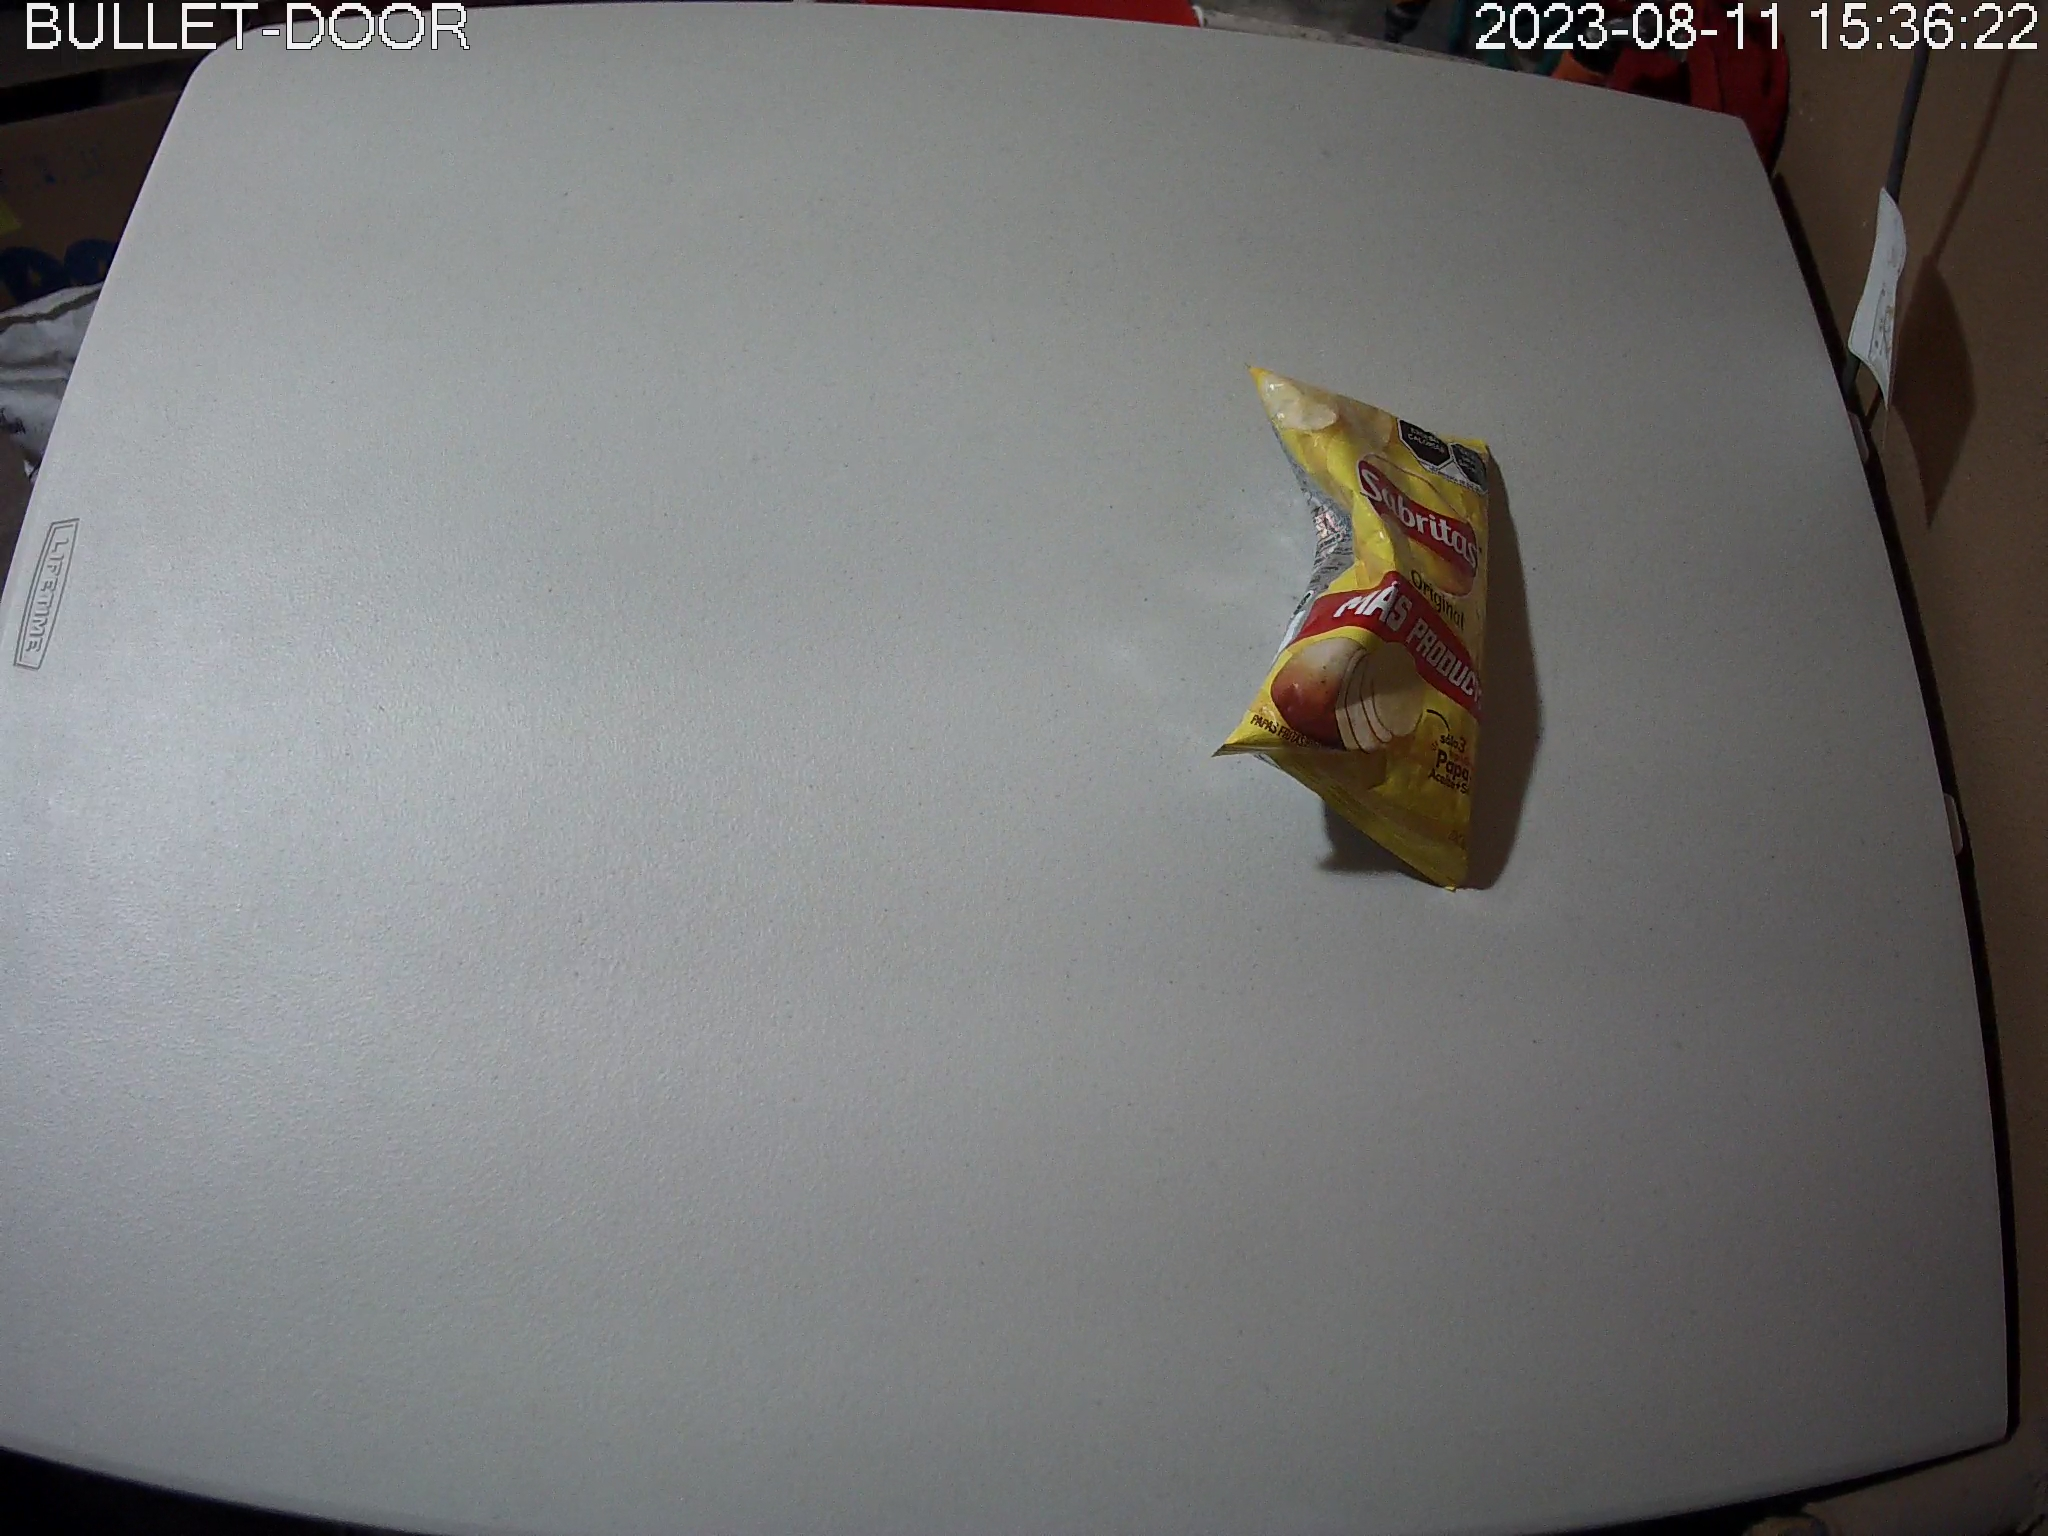Sabritas_45_F: (1209, 365, 1492, 895)
